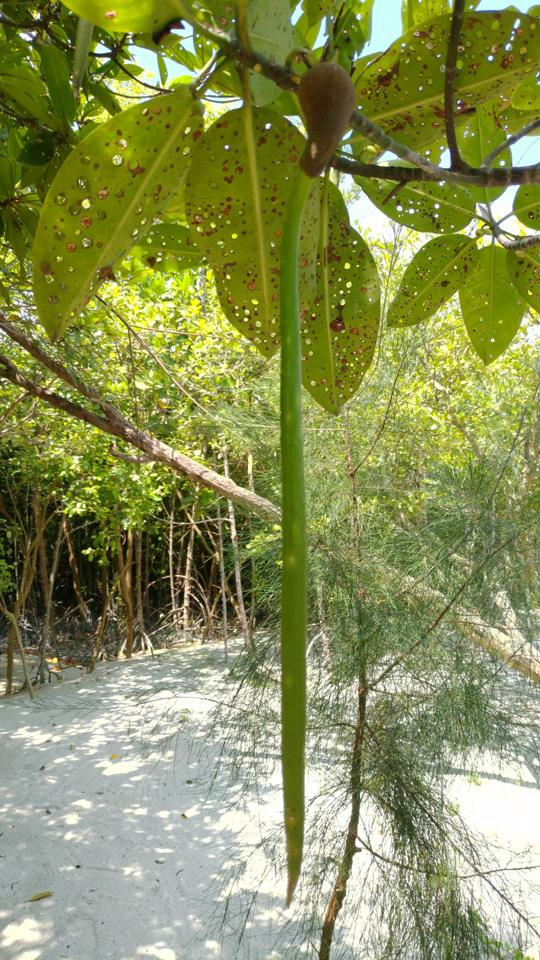mentah: (254, 59, 367, 919)
